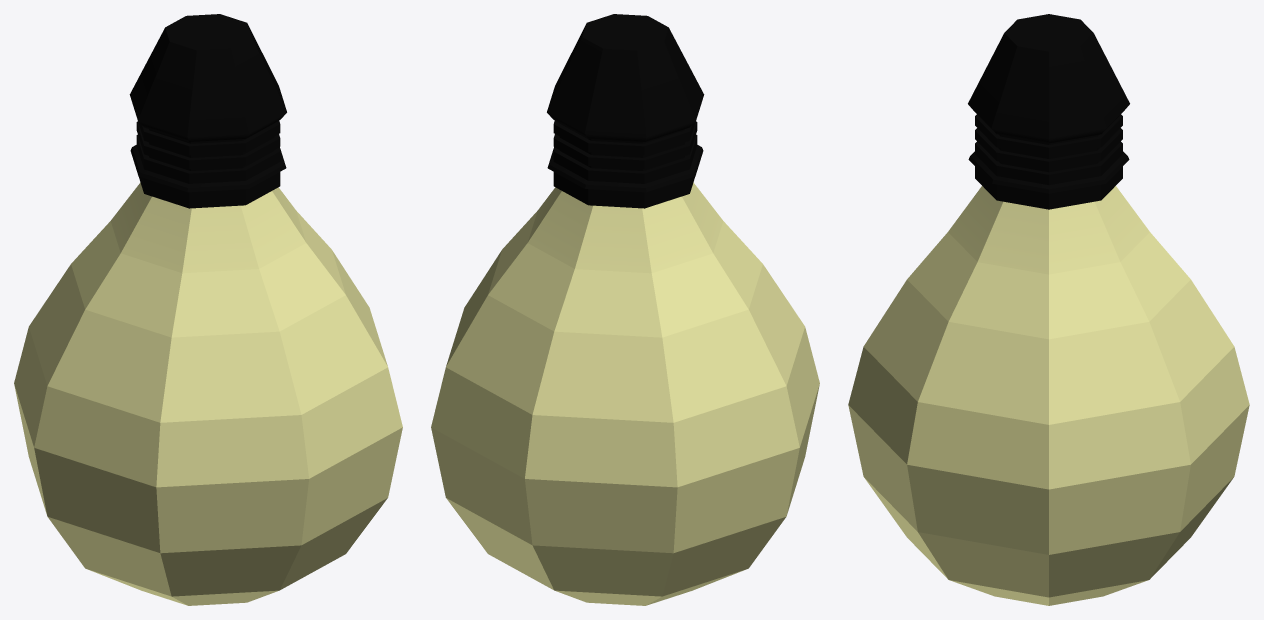
The model's file is light.fbx.
3 views of the same model, side by side, from view 1: azimuth 30°, elevation 25°; view 2: azimuth 150°, elevation 25°; view 3: azimuth 270°, elevation 25° (orthographic).
Parts seen in each view (by area): view 1: pSphere2; view 2: pSphere2; view 3: pSphere2.
Boxes of the visible parts, box(x1,y1,x2,y2) form: pSphere2: box(14, 14, 402, 605); pSphere2: box(431, 14, 819, 605); pSphere2: box(848, 14, 1249, 605).
Size of the model in its own units: 2 by 3.04 by 2.
